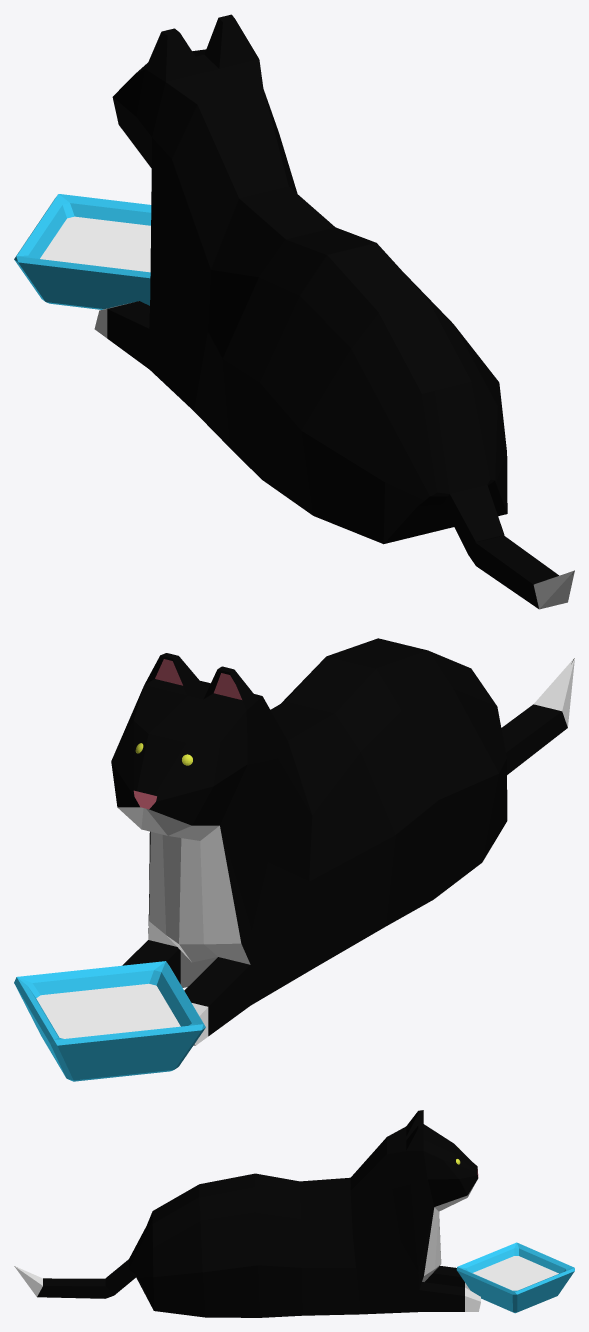
File: cat.glb
3 views of the same model, one above another, from view 1: azimuth 30°, elevation 25°; view 2: azimuth 150°, elevation 25°; view 3: azimuth 270°, elevation 25° (orthographic). The views are drawn at different scales.
Visible parts, largest first — view 1: cat, bowl; view 2: cat, bowl; view 3: cat, bowl.
Part boxes in pixels (left/top/right/bottom): cat: left=94, top=14, right=574, bottom=609; bowl: left=14, top=194, right=151, bottom=309; cat: left=111, top=638, right=574, bottom=1045; bowl: left=14, top=961, right=205, bottom=1081; cat: left=14, top=1110, right=480, bottom=1317; bowl: left=456, top=1242, right=574, bottom=1313.
Bounding box in the file's own units: 1.09 × 1.74 × 4.93.
